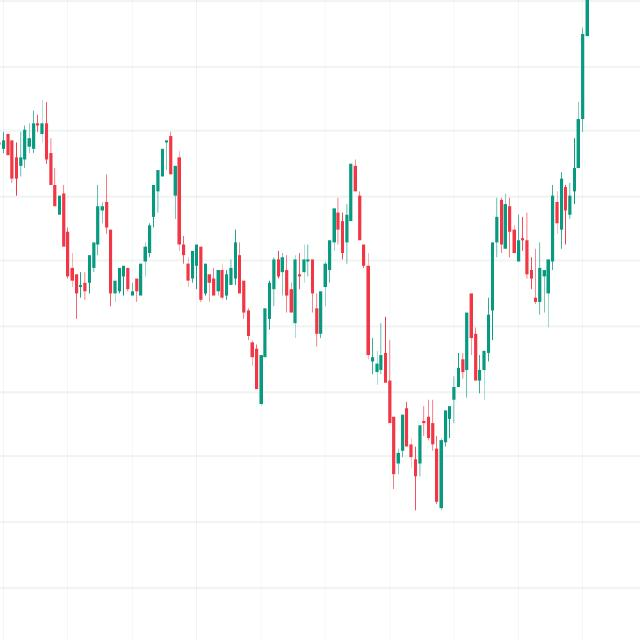Triple-Bottom: (381, 362, 457, 532)
